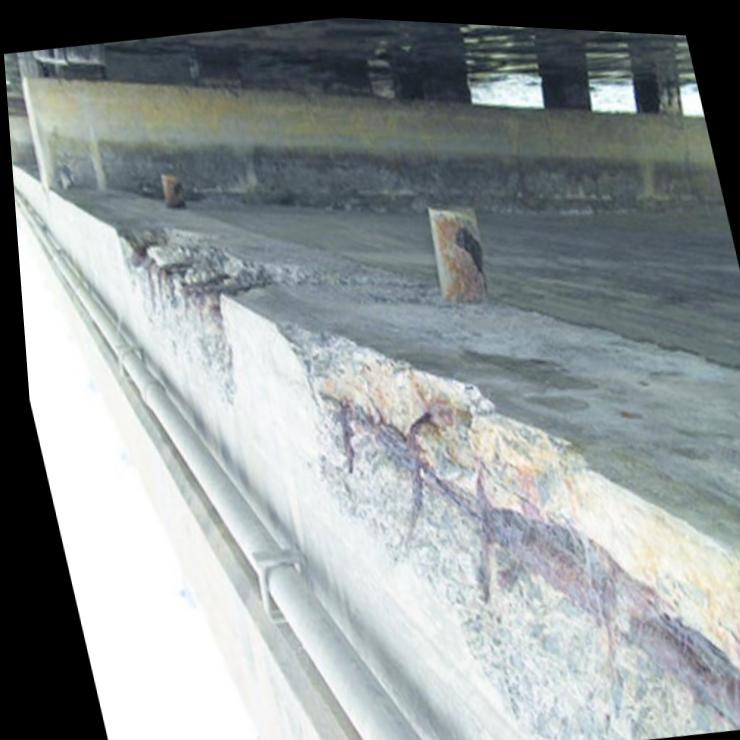damage: (273, 318, 740, 740), (112, 220, 416, 403)
